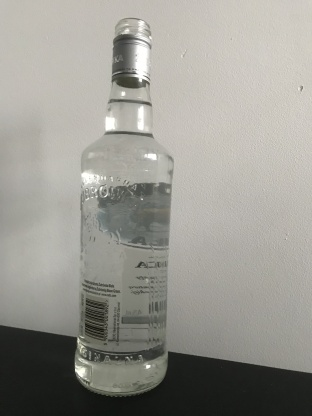nakretka: (109, 15, 153, 88)
